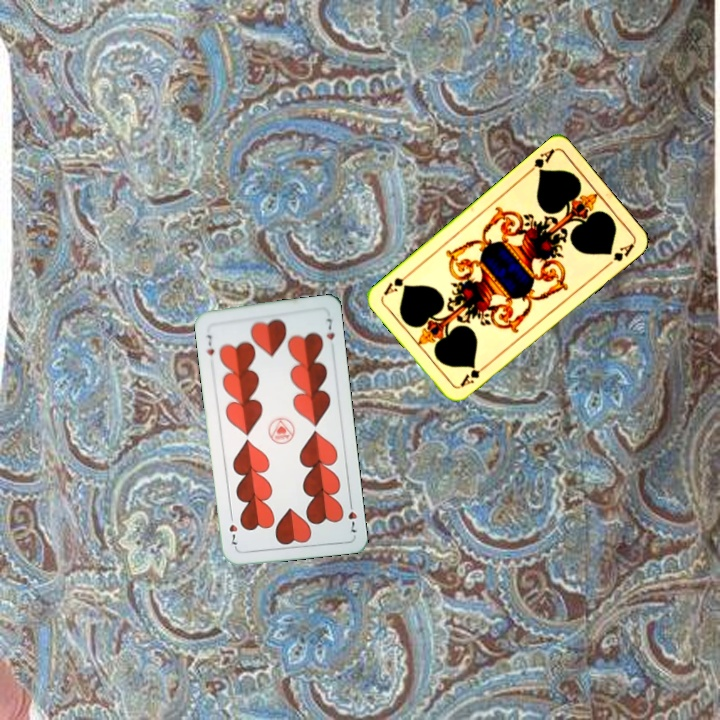GA: (523, 145, 557, 177), (456, 360, 490, 390)
H7: (344, 496, 360, 536), (202, 331, 217, 358)
